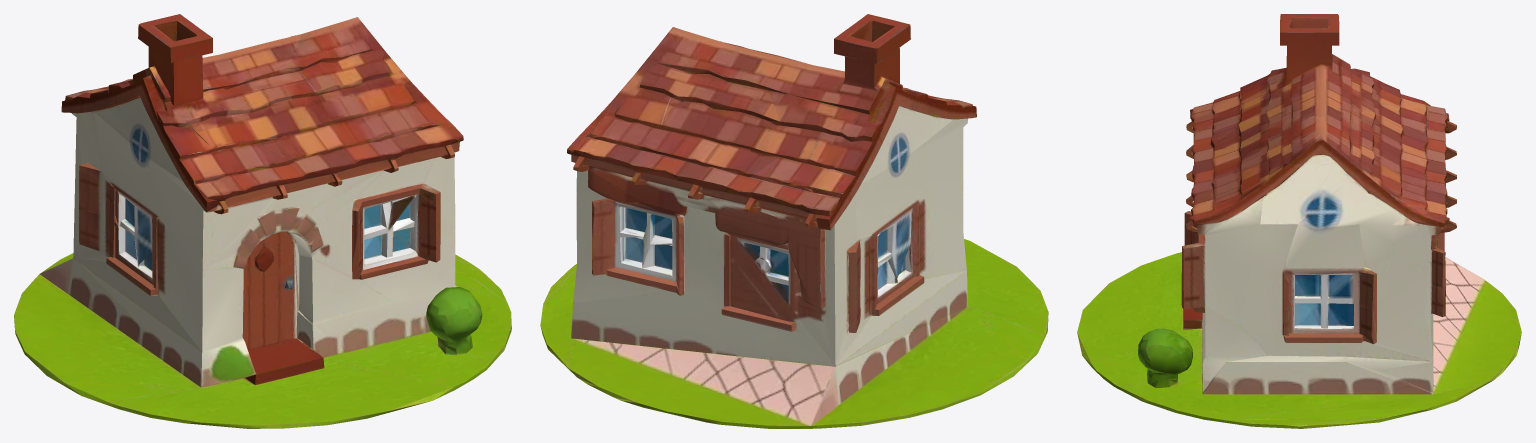
Rendered from cottage.glb.
The picture shows the model from 3 angles, left to right: view 1: azimuth 30°, elevation 25°; view 2: azimuth 150°, elevation 25°; view 3: azimuth 270°, elevation 25°; orthographic projection. The views are drawn at different scales.
Bounding box in the file's own units: 1.9 × 1.3 × 1.9.
Materials: 1 (1 with a texture image).
